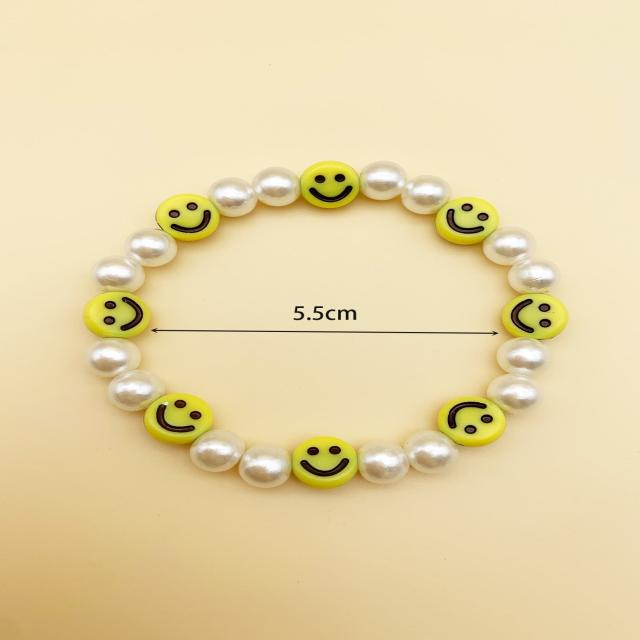bracelet: (10, 103, 640, 526)
